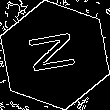N_E: (25, 31, 85, 79)
